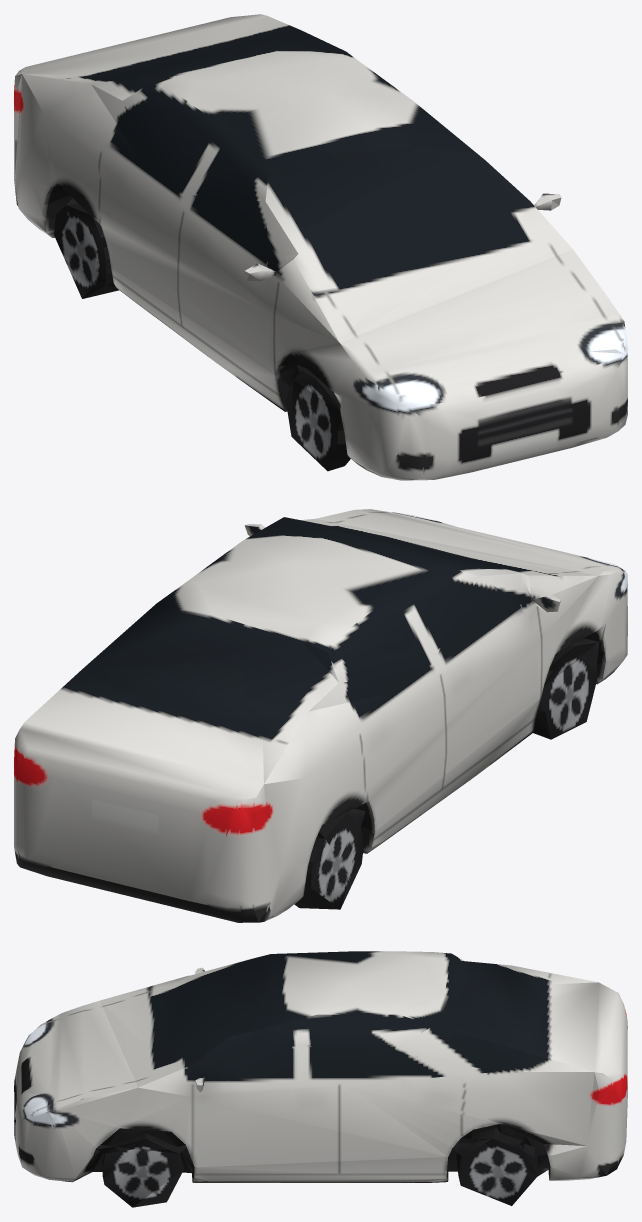
Rendered from toyota_vios.far.glb.
3 renders of one model, top to bottom at view 1: azimuth 30°, elevation 25°; view 2: azimuth 150°, elevation 25°; view 3: azimuth 270°, elevation 25°, orthographic. The views are drawn at different scales.
Parts seen in each view (by area): view 1: toyota_vios; view 2: toyota_vios; view 3: toyota_vios.
Part boxes in pixels (<box>): toyota_vios: <box>14,14,627,480</box>; toyota_vios: <box>14,509,627,922</box>; toyota_vios: <box>14,951,627,1207</box>.
Bounding box in the file's own units: 2 × 1.45 × 4.4.
1 material, 1 textured.
